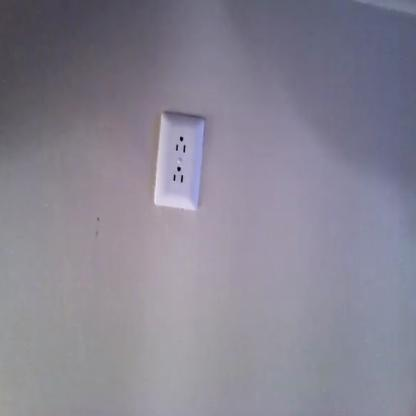OUTLET: (155, 112, 203, 209)
